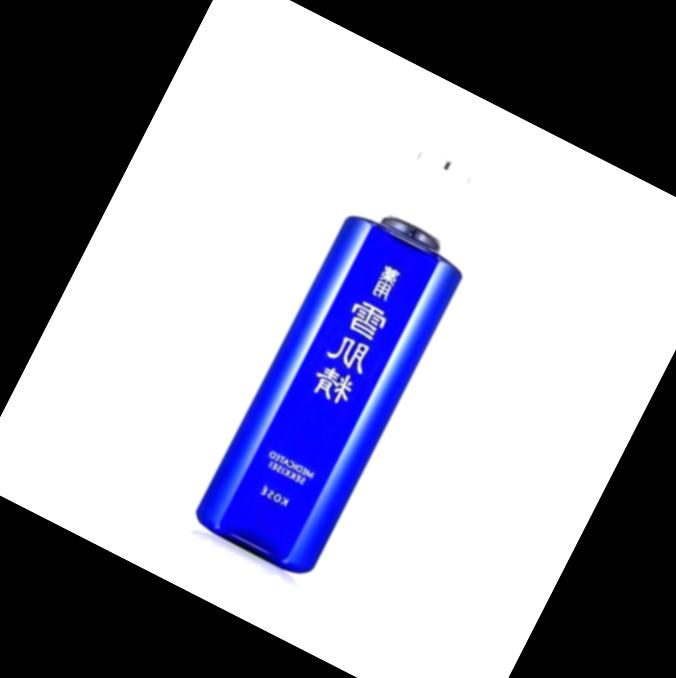cosmetic: (182, 130, 507, 583)
